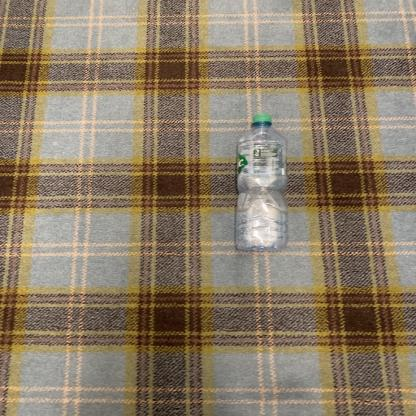trash: (232, 114, 290, 253)
